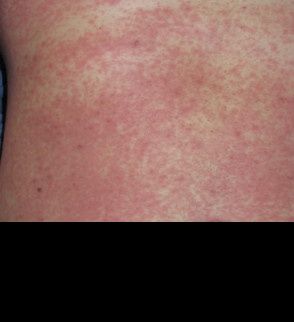SJS-TEN: (8, 0, 294, 217)
